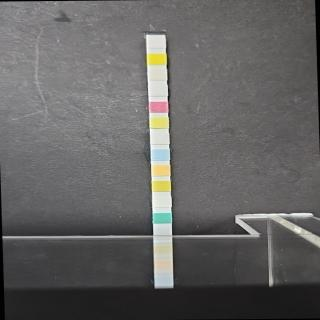mark: (148, 68, 167, 80), (148, 85, 168, 96), (153, 212, 171, 224), (152, 195, 170, 207), (152, 179, 170, 191), (152, 164, 170, 176), (152, 148, 170, 160), (151, 132, 169, 144), (150, 116, 168, 128), (150, 100, 168, 112), (148, 53, 166, 65), (148, 38, 166, 48)
